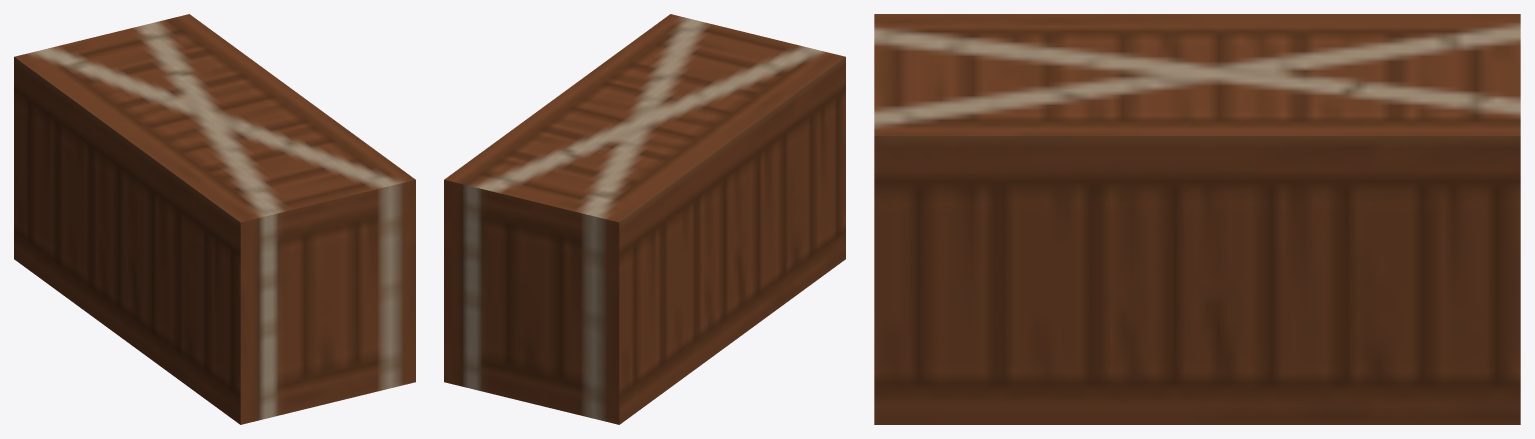
The model's file is etc_woodboxlong01.FBX.
The picture shows the model from 3 angles, left to right: view 1: azimuth 30°, elevation 25°; view 2: azimuth 150°, elevation 25°; view 3: azimuth 270°, elevation 25°; orthographic projection. The views are drawn at different scales.
Visible parts, largest first — view 1: etc_woodboxlong01; view 2: etc_woodboxlong01; view 3: etc_woodboxlong01.
Boxes of the visible parts, box(x1,y1,x2,y2) form: etc_woodboxlong01: box(14, 14, 415, 424); etc_woodboxlong01: box(444, 14, 845, 424); etc_woodboxlong01: box(874, 14, 1520, 424).
Size of the model in its own units: 62.47 by 68.9 by 140.
